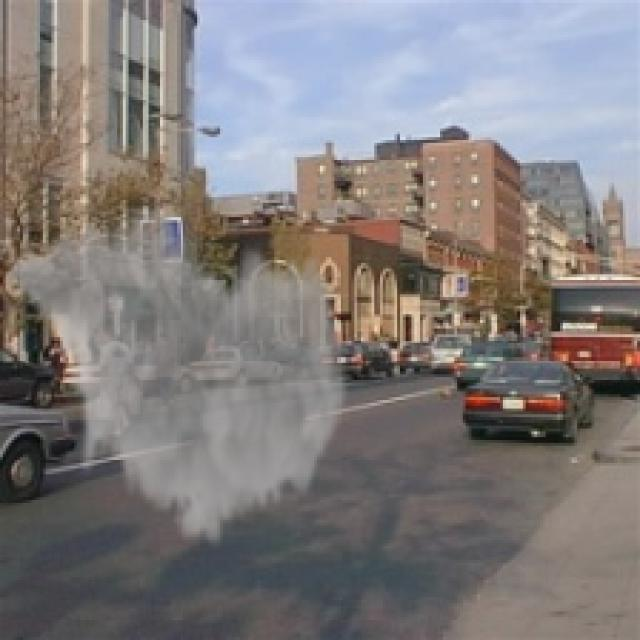smoke: (3, 197, 351, 554)
